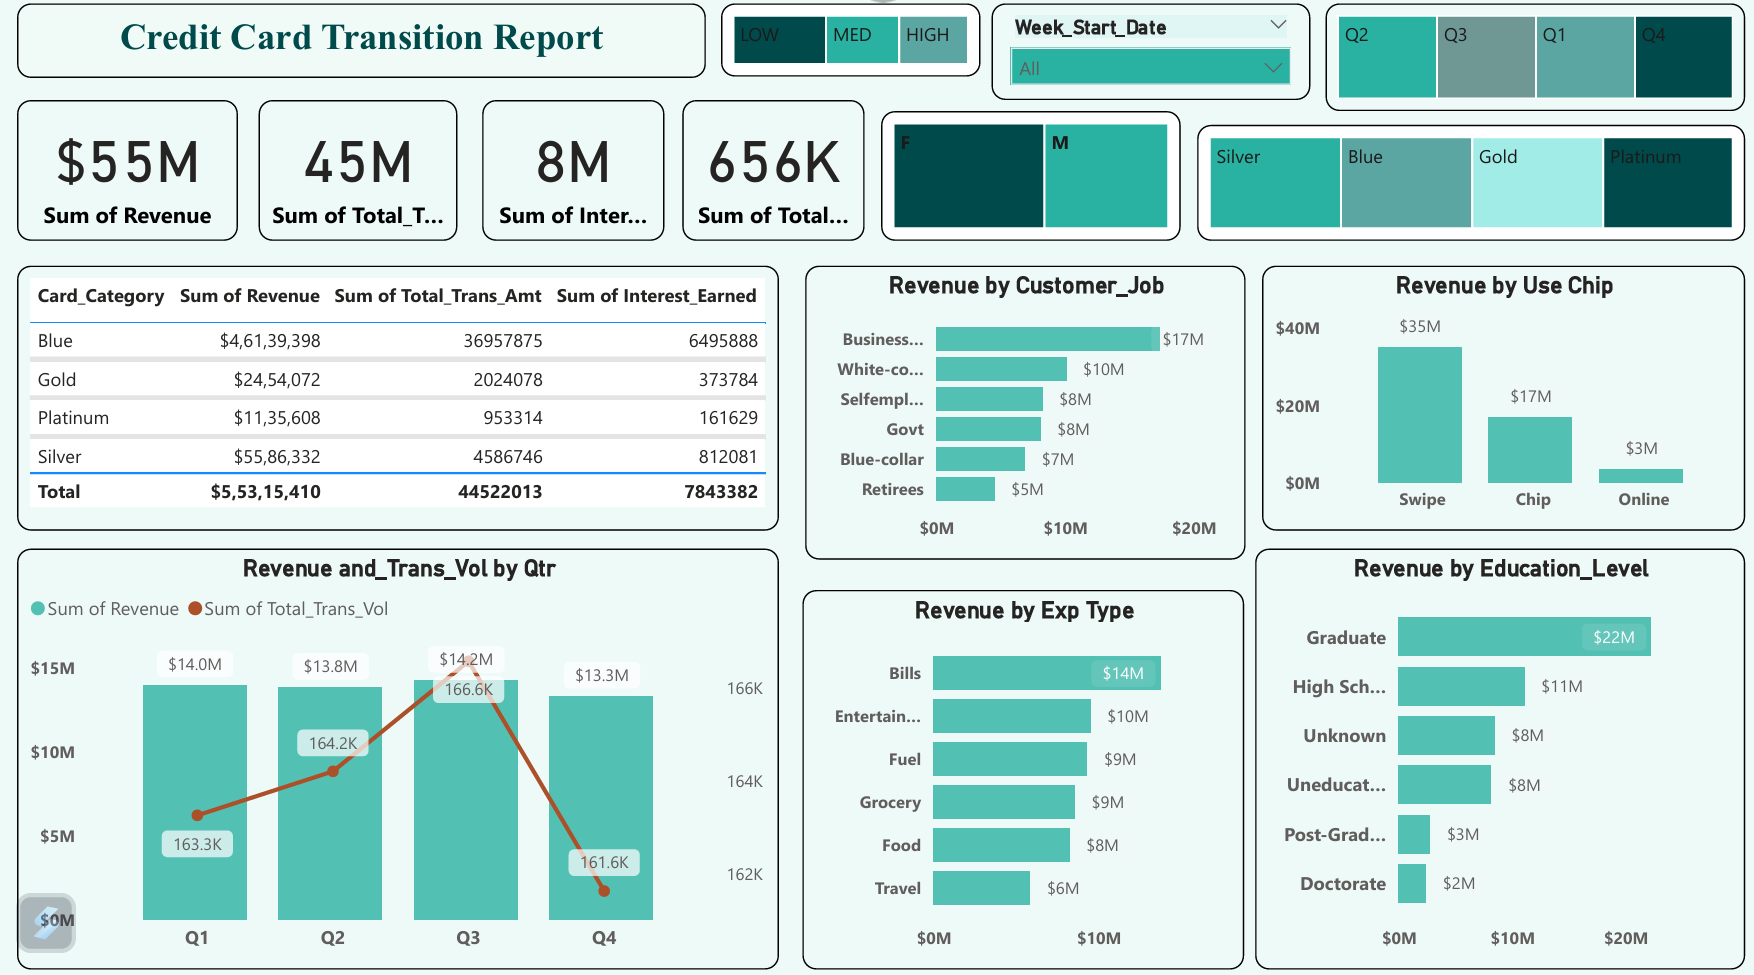

What the dashboard file says about the page in this screenshot:
{"tool":"powerbi","page":{"name":"Page 1","canvas":[1280,720],"ordinal":0},"visuals":[{"type":"lineStackedColumnComboChart","title":"Revenue and_Trans_Vol by Qtr","fields":{"Category":["credit_card.Qtr"],"Y":["Sum(credit_card.Revenue)"],"Y2":["Sum(credit_card.Total_Trans_Vol)"]},"box":[12.7,400.8,551.9,305.4],"z":0},{"type":"textbox","box":[12.7,6.4,499.5,54.1],"z":1000},{"type":"barChart","title":"Revenue by Exp Type","fields":{"Category":["credit_card.Exp Type"],"Y":["Sum(credit_card.Revenue)"]},"box":[582.2,431.1,319.7,275.2],"z":2000},{"type":"barChart","title":"Revenue by Education_Level","fields":{"Y":["Sum(credit_card.Revenue)"],"Category":["customer.Education_Level"]},"box":[909.8,400.8,354.7,305.4],"z":3000},{"type":"barChart","title":" Revenue by Customer_Job","fields":{"Category":["customer.Customer_Job"],"Y":["Sum(credit_card.Revenue)"]},"box":[583.8,195.6,319.7,213.1],"z":4000},{"type":"columnChart","title":" Revenue by Use Chip","fields":{"Category":["credit_card.Use Chip"],"Y":["Sum(credit_card.Revenue)"]},"box":[914.6,195.6,349.9,192.5],"z":5000},{"type":"tableEx","fields":{"Values":["credit_card.Card_Category","Sum(credit_card.Revenue)","Sum(credit_card.Total_Trans_Amt)","Sum(credit_card.Interest_Earned)"]},"box":[12.7,195.6,551.9,192.5],"z":6000},{"type":"card","title":"Revenue","fields":{"Values":["Sum(credit_card.Revenue)"]},"box":[12.7,76.3,160.7,101.8],"z":7000},{"type":"card","title":"Total","fields":{"Values":["Sum(credit_card.Total_Trans_Amt)"]},"box":[187.7,76.3,144.7,101.8],"z":8000},{"type":"card","title":"Interest","fields":{"Values":["Sum(credit_card.Interest_Earned)"]},"box":[349.9,76.3,132,101.8],"z":9000},{"type":"card","title":"Count","fields":{"Values":["Sum(credit_card.Total_Trans_Vol)"]},"box":[494.7,76.3,132,101.8],"z":10000},{"type":"slicer","fields":{"Values":["credit_card.Week_Start_Date"]},"box":[719,6.4,230.6,70],"z":11000},{"type":"treemap","fields":{"Group":["credit_card.Qtr"],"Values":["CountNonNull(credit_card.Client_Num)"]},"box":[960.7,6.4,303.8,77.9],"z":12000},{"type":"treemap","fields":{"Group":["credit_card.Card_Category"],"Values":["credit_card.Average Client No"]},"box":[868.5,93.8,396.1,84.3],"z":13000},{"type":"treemap","fields":{"Values":["Sum(credit_card.Avg_Utilization_Ratio)"],"Details":["customer.Gender"]},"box":[639.4,84.3,216.3,93.8],"z":14000},{"type":"treemap","fields":{"Values":["CountNonNull(credit_card.Client_Num)"],"Group":["customer.Income group"]},"box":[523.3,6.4,187.7,52.5],"z":15000}]}

Visuals, with their boxes in screenshot pixels (x1, y1, x2, y2), scaled from the page's 1280x720 canvas onto the 1754x975 screenshot:
"Revenue and_Trans_Vol by Qtr" lineStackedColumnComboChart: 17, 543, 774, 956
textbox: 17, 9, 702, 82
"Revenue by Exp Type" barChart: 798, 584, 1236, 956
"Revenue by Education_Level" barChart: 1247, 543, 1733, 956
" Revenue by Customer_Job" barChart: 800, 265, 1238, 553
" Revenue by Use Chip" columnChart: 1253, 265, 1733, 526
tableEx - credit_card.Card_Category x Sum(credit_card.Revenue): 17, 265, 774, 526
"Revenue" card: 17, 103, 238, 241
"Total" card: 257, 103, 455, 241
"Interest" card: 479, 103, 660, 241
"Count" card: 678, 103, 859, 241
slicer - credit_card.Week_Start_Date: 985, 9, 1301, 103
treemap - credit_card.Qtr x CountNonNull(credit_card.Client_Num): 1316, 9, 1733, 114
treemap - credit_card.Card_Category x credit_card.Average Client No: 1190, 127, 1733, 241
treemap - Sum(credit_card.Avg_Utilization_Ratio) x customer.Gender: 876, 114, 1173, 241
treemap - CountNonNull(credit_card.Client_Num) x customer.Income group: 717, 9, 974, 80
